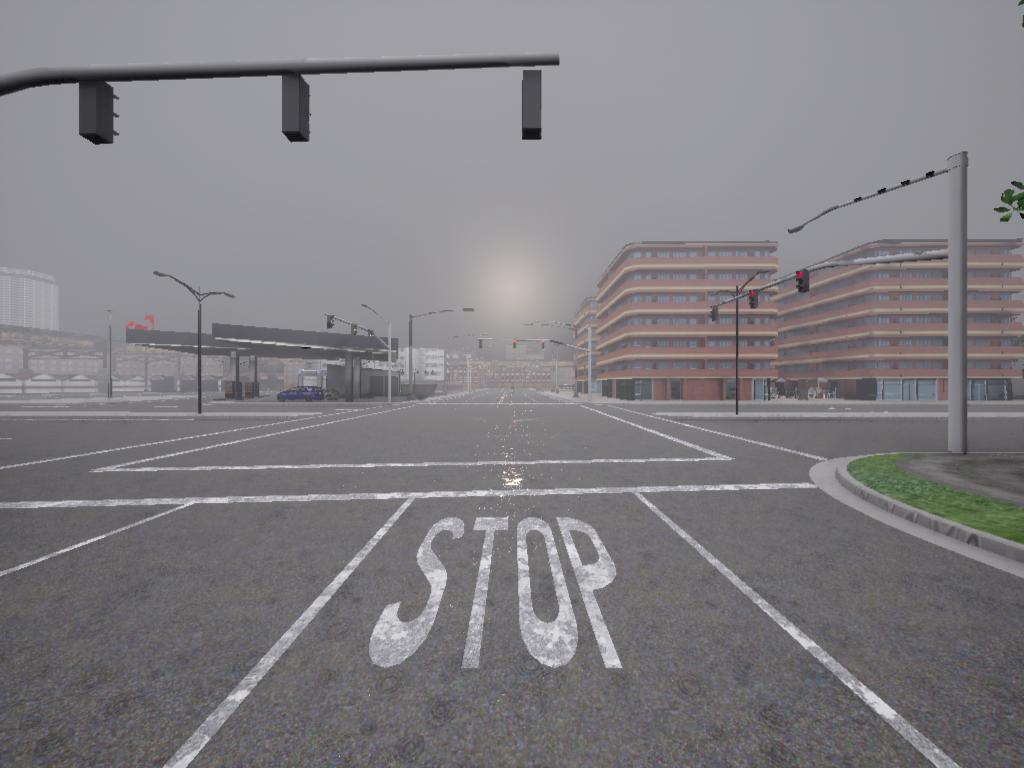traffic_light: (78, 84, 120, 146), (281, 71, 312, 148), (522, 72, 543, 142), (799, 271, 813, 295), (749, 289, 759, 309), (711, 305, 719, 323), (326, 317, 335, 331), (351, 323, 358, 340), (541, 339, 548, 354), (368, 329, 374, 343), (478, 339, 484, 353), (513, 341, 518, 353)
